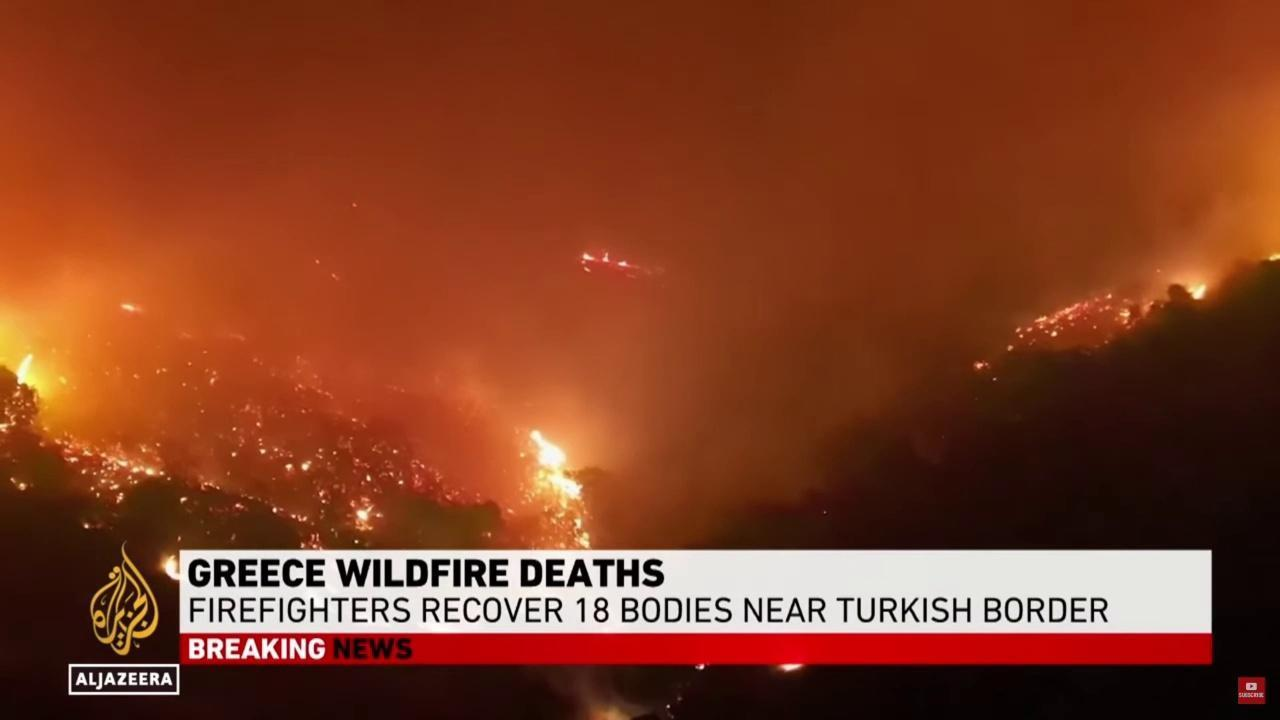fire: (508, 421, 592, 548), (1004, 290, 1157, 356), (52, 432, 166, 503), (409, 459, 482, 508), (578, 248, 642, 275), (344, 494, 384, 533), (15, 350, 32, 390), (162, 554, 180, 584), (1, 406, 19, 436), (1187, 282, 1207, 301), (10, 475, 28, 492), (272, 445, 294, 458), (777, 664, 803, 674), (120, 302, 140, 314), (201, 481, 221, 492), (318, 488, 331, 504), (972, 360, 989, 372), (288, 513, 308, 522), (1266, 250, 1280, 261), (301, 459, 312, 472), (233, 502, 248, 511), (315, 447, 325, 460), (284, 463, 294, 473), (310, 533, 320, 543), (695, 664, 705, 673), (178, 496, 188, 504), (292, 384, 303, 391), (258, 448, 268, 455), (365, 472, 372, 482), (82, 523, 91, 530), (210, 376, 216, 386), (231, 531, 237, 541), (271, 506, 278, 514), (133, 372, 141, 379), (256, 421, 263, 429), (391, 448, 400, 454), (258, 438, 263, 446), (350, 417, 358, 422), (231, 450, 237, 456), (187, 360, 192, 367), (162, 367, 167, 373), (156, 368, 160, 375), (399, 480, 403, 486), (332, 451, 338, 455)
smoke: (0, 0, 1280, 548)
